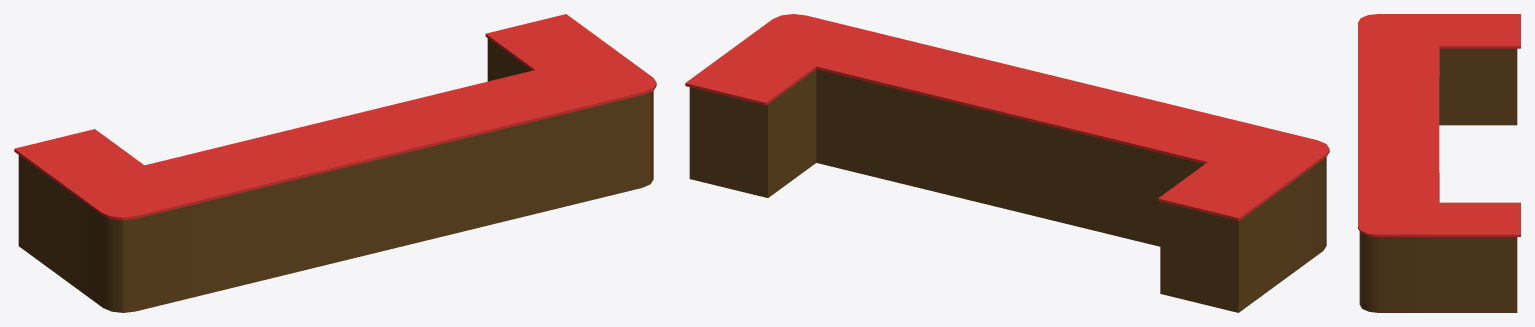
Rendered from mesa2.fbx.
3 renders of one model, left to right at view 1: azimuth 30°, elevation 25°; view 2: azimuth 150°, elevation 25°; view 3: azimuth 270°, elevation 25°, orthographic. The views are drawn at different scales.
Parts seen in each view (by area): view 1: mesa2|mesa2_L_scene.blend|Dupli|; view 2: mesa2|mesa2_L_scene.blend|Dupli|; view 3: mesa2|mesa2_L_scene.blend|Dupli|.
Part boxes in pixels (x1,y1,x2,y2): mesa2|mesa2_L_scene.blend|Dupli|: (14, 14, 656, 312); mesa2|mesa2_L_scene.blend|Dupli|: (685, 14, 1329, 312); mesa2|mesa2_L_scene.blend|Dupli|: (1358, 14, 1520, 312).
Size of the model in its own units: 663 by 111 by 207.
